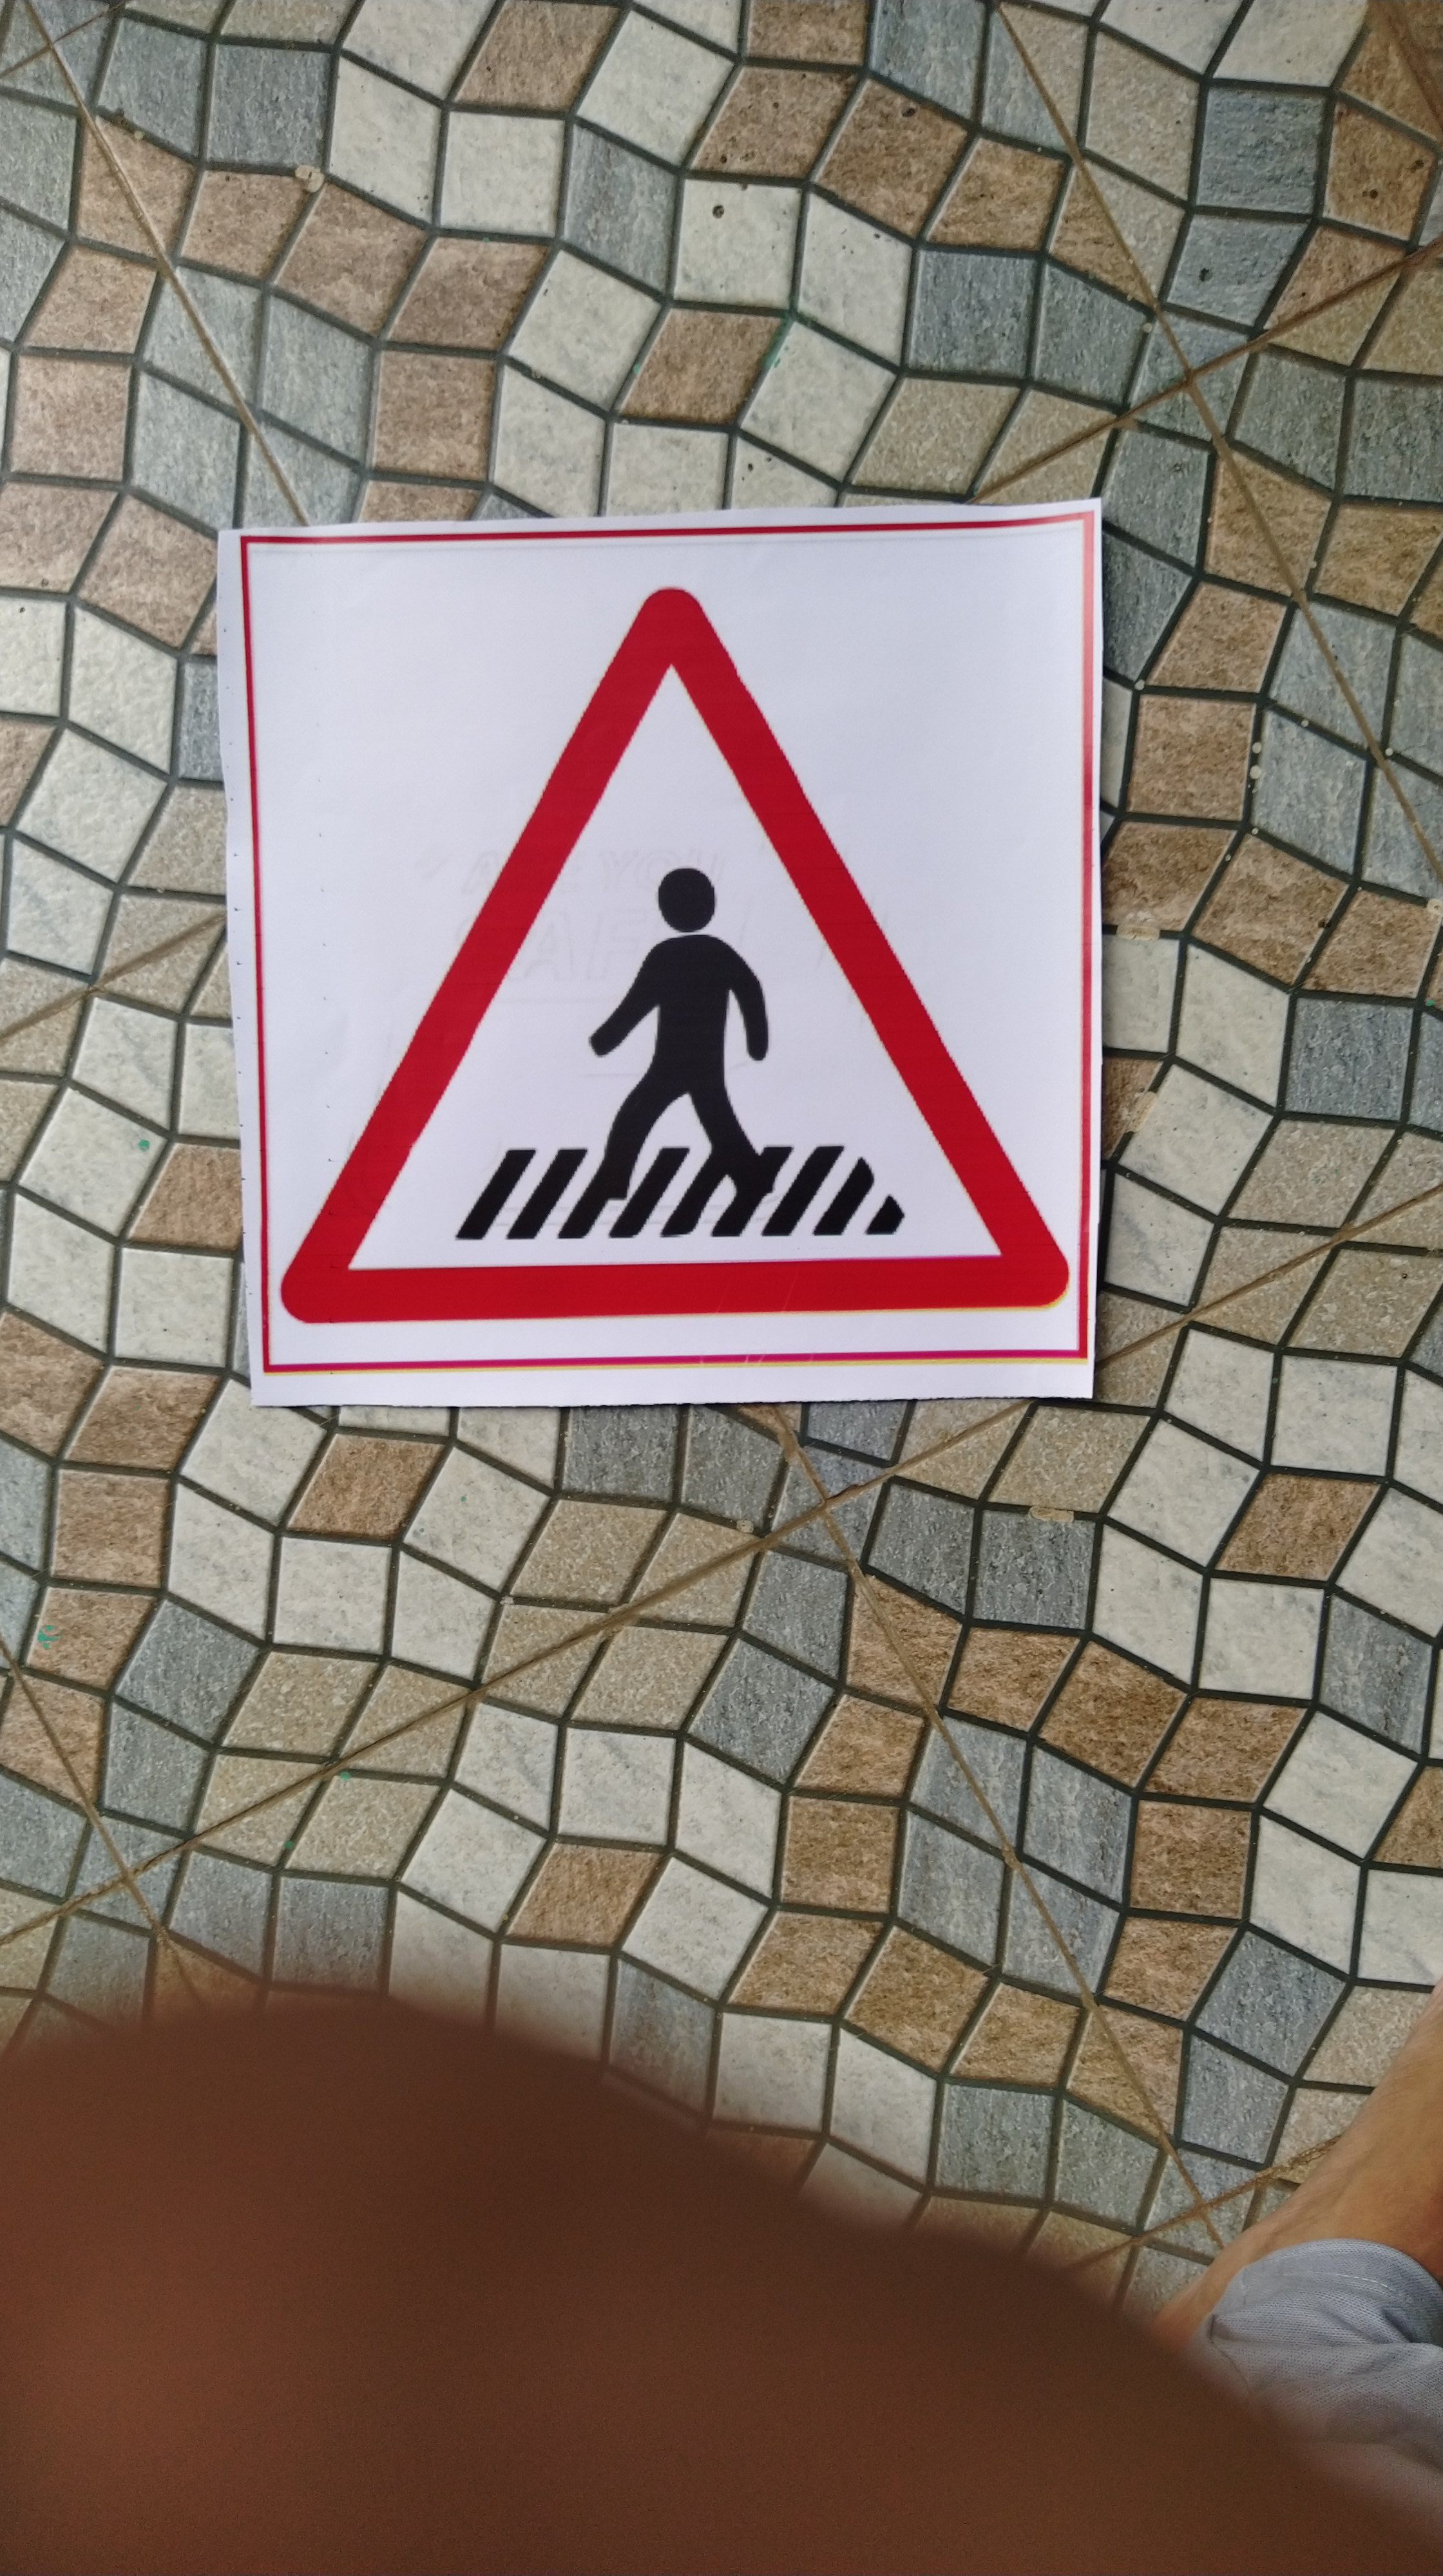pedestrain crossing: (251, 568, 1105, 1389)
